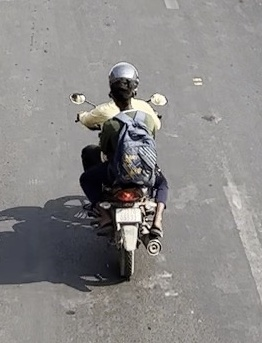BikeWithRider: (64, 60, 186, 280)
Helmet: (109, 60, 146, 93)
NoHelmet: (110, 83, 137, 109)
